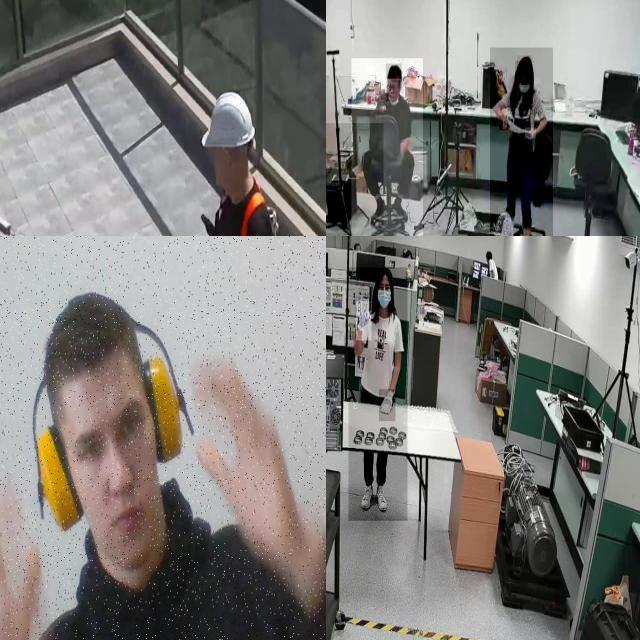Ear-protection: (130, 311, 202, 472), (28, 398, 96, 543)
Harness: (241, 191, 266, 236)
face_mask: (515, 61, 531, 106), (376, 280, 396, 314)
face_nomask: (386, 80, 401, 102)
hand_glove: (356, 302, 372, 341), (379, 389, 396, 422)
hand_noglove: (499, 115, 509, 131), (525, 128, 537, 139)
head_nohelmet: (386, 64, 402, 80), (517, 56, 533, 70), (376, 266, 392, 280)
person: (348, 268, 408, 522), (351, 58, 423, 236), (490, 47, 553, 236)
shoes: (391, 190, 409, 223), (371, 195, 389, 222), (359, 483, 375, 510), (376, 483, 390, 513)
